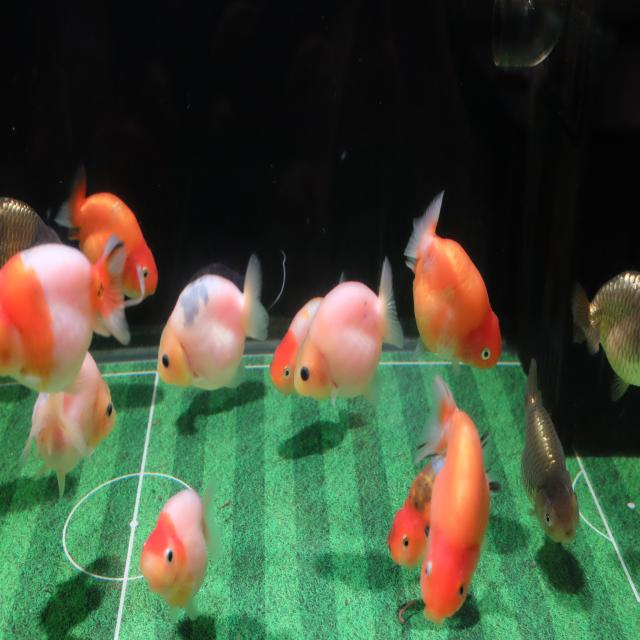Goldfish: (414, 376, 503, 630), (0, 231, 131, 393), (404, 188, 504, 374), (387, 424, 503, 575), (292, 258, 404, 402), (156, 253, 271, 393), (16, 348, 116, 500), (55, 166, 158, 302), (136, 476, 223, 626), (518, 358, 582, 550), (570, 268, 640, 407), (270, 296, 326, 405), (0, 196, 62, 270)
